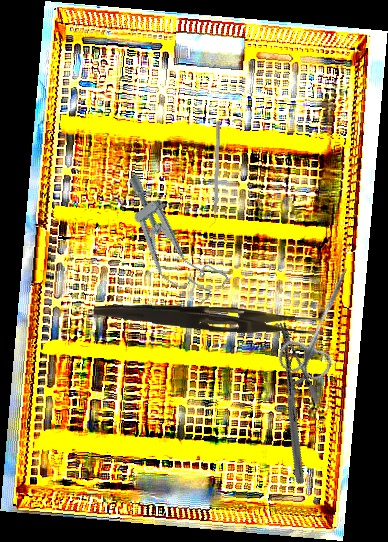Chopper: (207, 120, 221, 229)
Dressing Forceps: (93, 301, 325, 336)
Iris Scissors: (274, 256, 369, 385)
Needle Holder: (216, 320, 367, 486)
Speculum: (103, 167, 233, 315)
